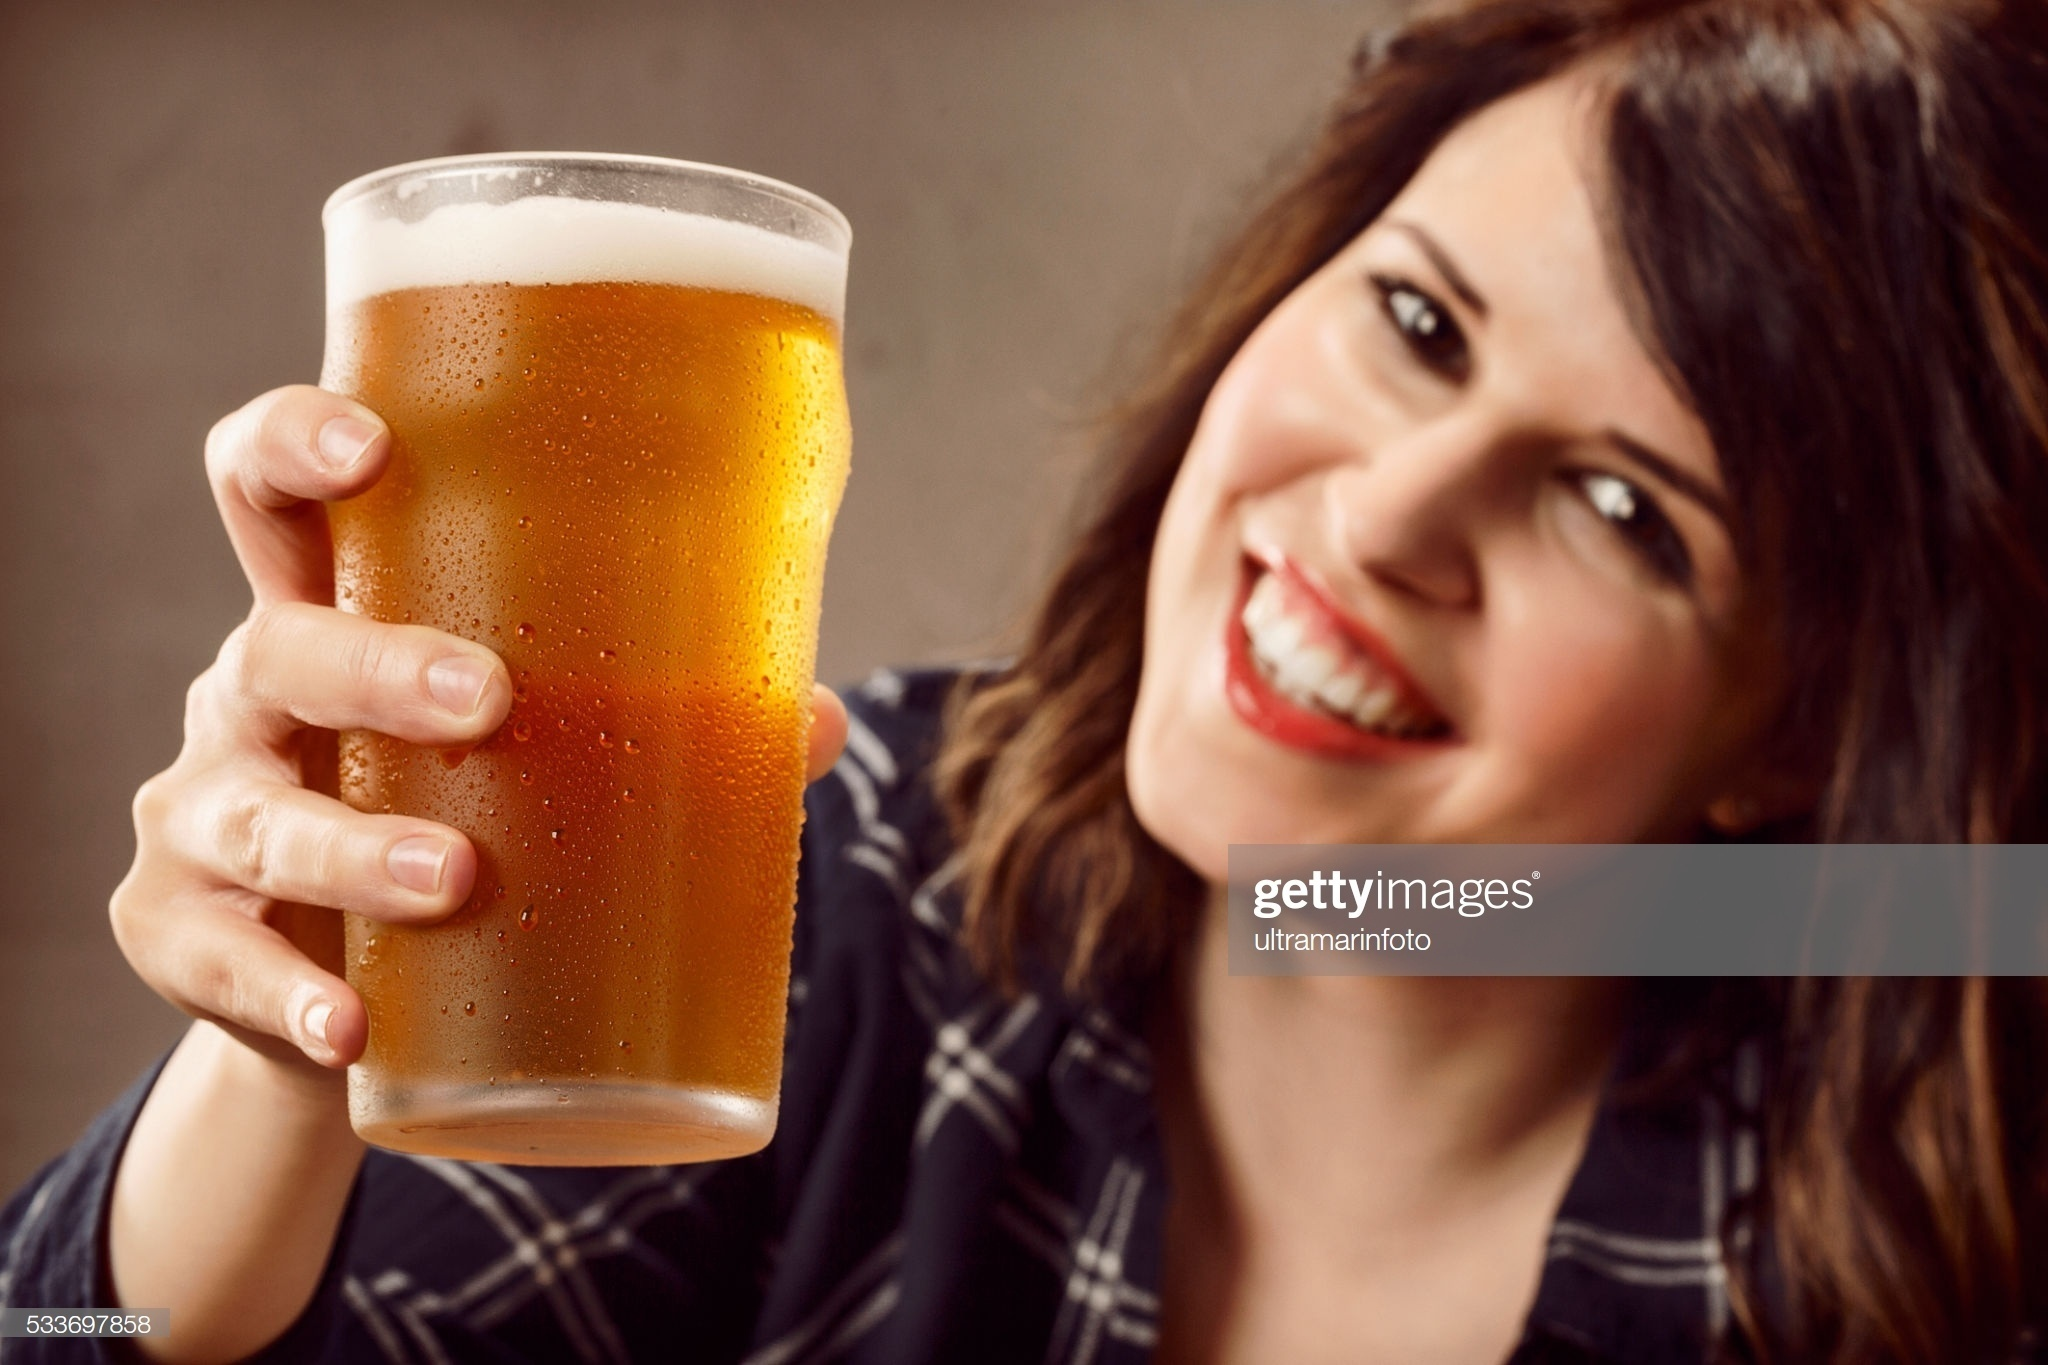whiskey: (286, 151, 853, 1162)
